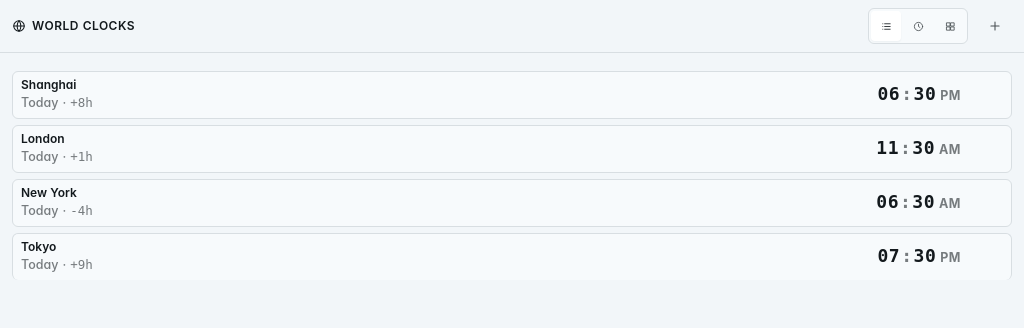
Test: WorldClocks › AC-WORLDCLOCKS-3: add-city picker shows the 8 unselected cities
Step 1. Click the button named "Add city" → (995, 26), box [978, 9, 1012, 43]
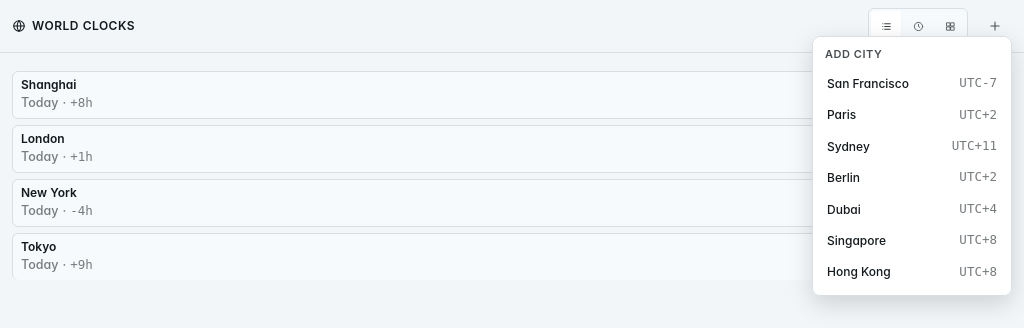
Result: the number of buttons with class "tz-picker-row" is 8
